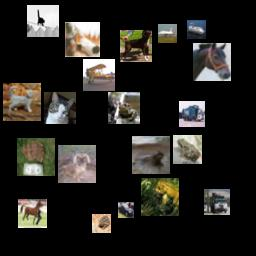airplane: (83, 59, 115, 91), (158, 24, 177, 43)
automobile: (118, 202, 134, 218)
cat: (3, 83, 41, 121), (65, 22, 100, 57), (44, 92, 76, 124), (27, 5, 59, 37)
dog: (58, 145, 96, 183), (120, 30, 152, 62)
frog: (141, 178, 179, 216), (17, 138, 55, 176), (132, 136, 170, 174), (108, 92, 140, 124), (173, 135, 202, 164), (92, 214, 111, 233)
ship: (187, 20, 206, 39)
truck: (179, 101, 205, 127), (204, 189, 230, 215)
